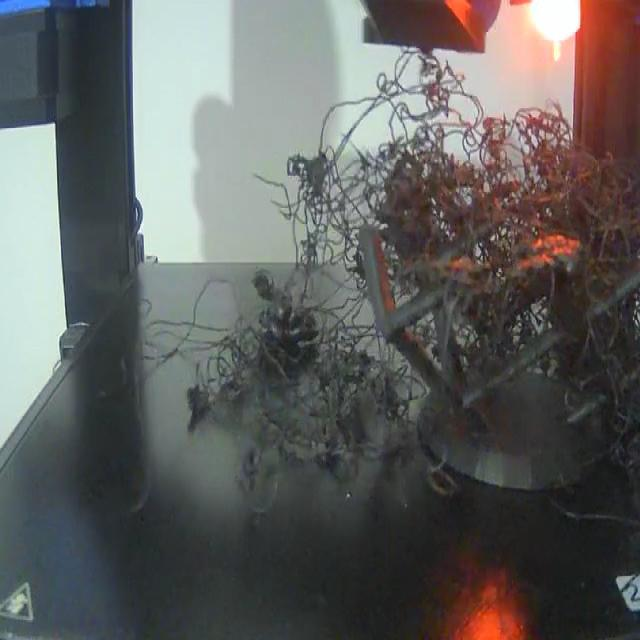spaghetti: (184, 43, 640, 563)
